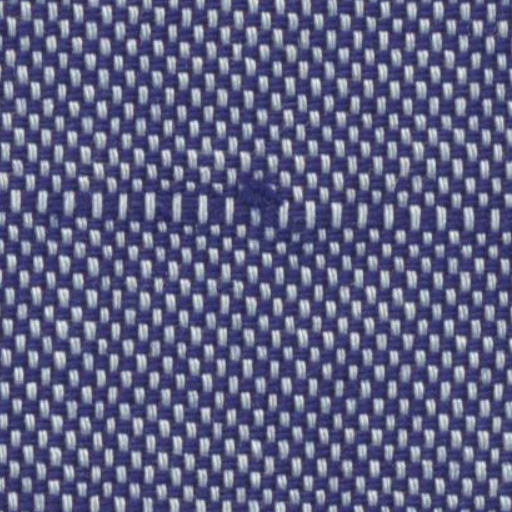DaiSha: (4, 162, 498, 240)
